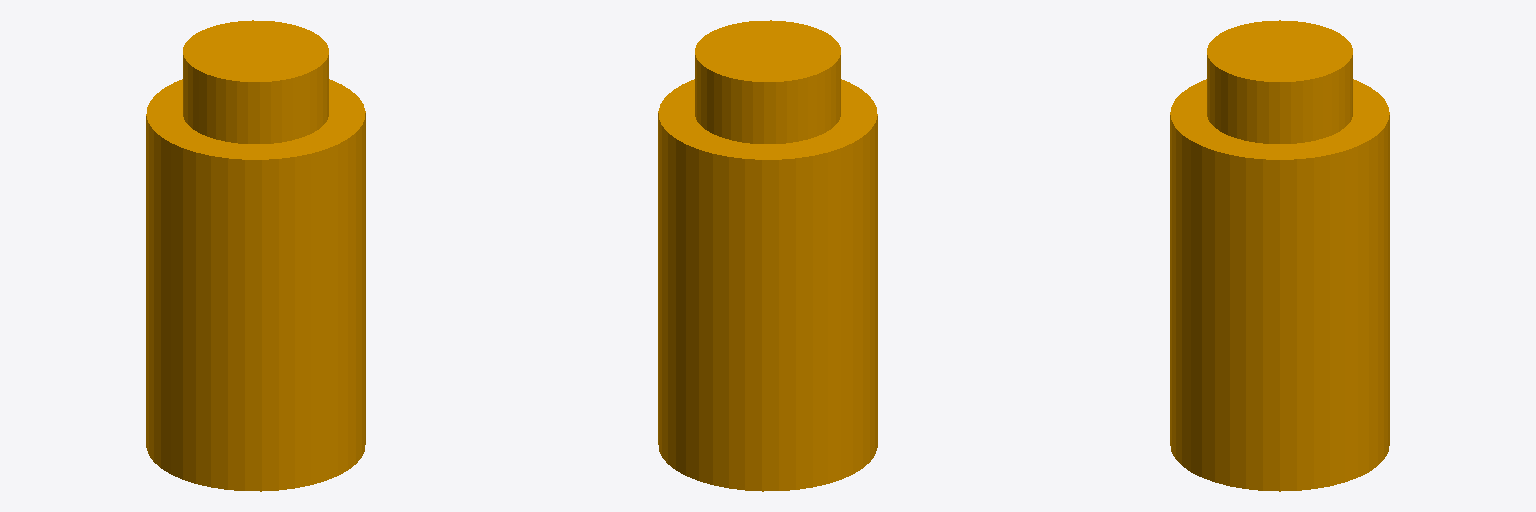
URDF robot description (fixed_squeeze_bottle):
<?xml version='1.0' encoding='utf-8'?>
<robot name="fixed_squeeze_bottle">
  <link name="body">
    <inertial>
      <origin xyz="4.625336883436452e-19 -1.129853284503561e-19 0.08730769230769234" />
      <mass value="0.3" />
      <inertia ixx="0.0009494850593668729" iyy="0.0009494850593668729" izz="0.0003294730773136299" ixy="-3.571616290955104e-21" ixz="-1.5849044108308418e-20" iyz="-3.0075825315573634e-20" />
    </inertial>
    <collision>
      <geometry>
        <mesh filename="part_00.obj" />
      </geometry>
    </collision>
    <collision>
      <geometry>
        <mesh filename="part_01.obj" />
      </geometry>
    </collision>
    <visual>
      <geometry>
        <mesh filename="visual.obj" />
      </geometry>
    </visual>
  </link>
</robot>

--- Render facts (derived) ---
The picture shows the robot from 3 angles, left to right: view 1: azimuth 30°, elevation 25°; view 2: azimuth 150°, elevation 25°; view 3: azimuth 270°, elevation 25°; orthographic projection.
Model fixed_squeeze_bottle with 1 links and 0 joints (none), rooted at body, posed every joint at zero.
Visible links, largest first — view 1: body; view 2: body; view 3: body.
Boxes of the visible links, x1,y1,x2,y2 form: body: (146, 20, 365, 491); body: (658, 20, 877, 491); body: (1170, 20, 1389, 491).
Size in the robot's own frame: 0.096 by 0.096 by 0.19 metres.
Meshes: 1 distinct files referenced, 1 mesh visuals loaded (1 OBJ).
